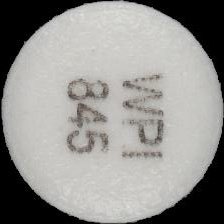68151-0765: (0, 0, 224, 224)
